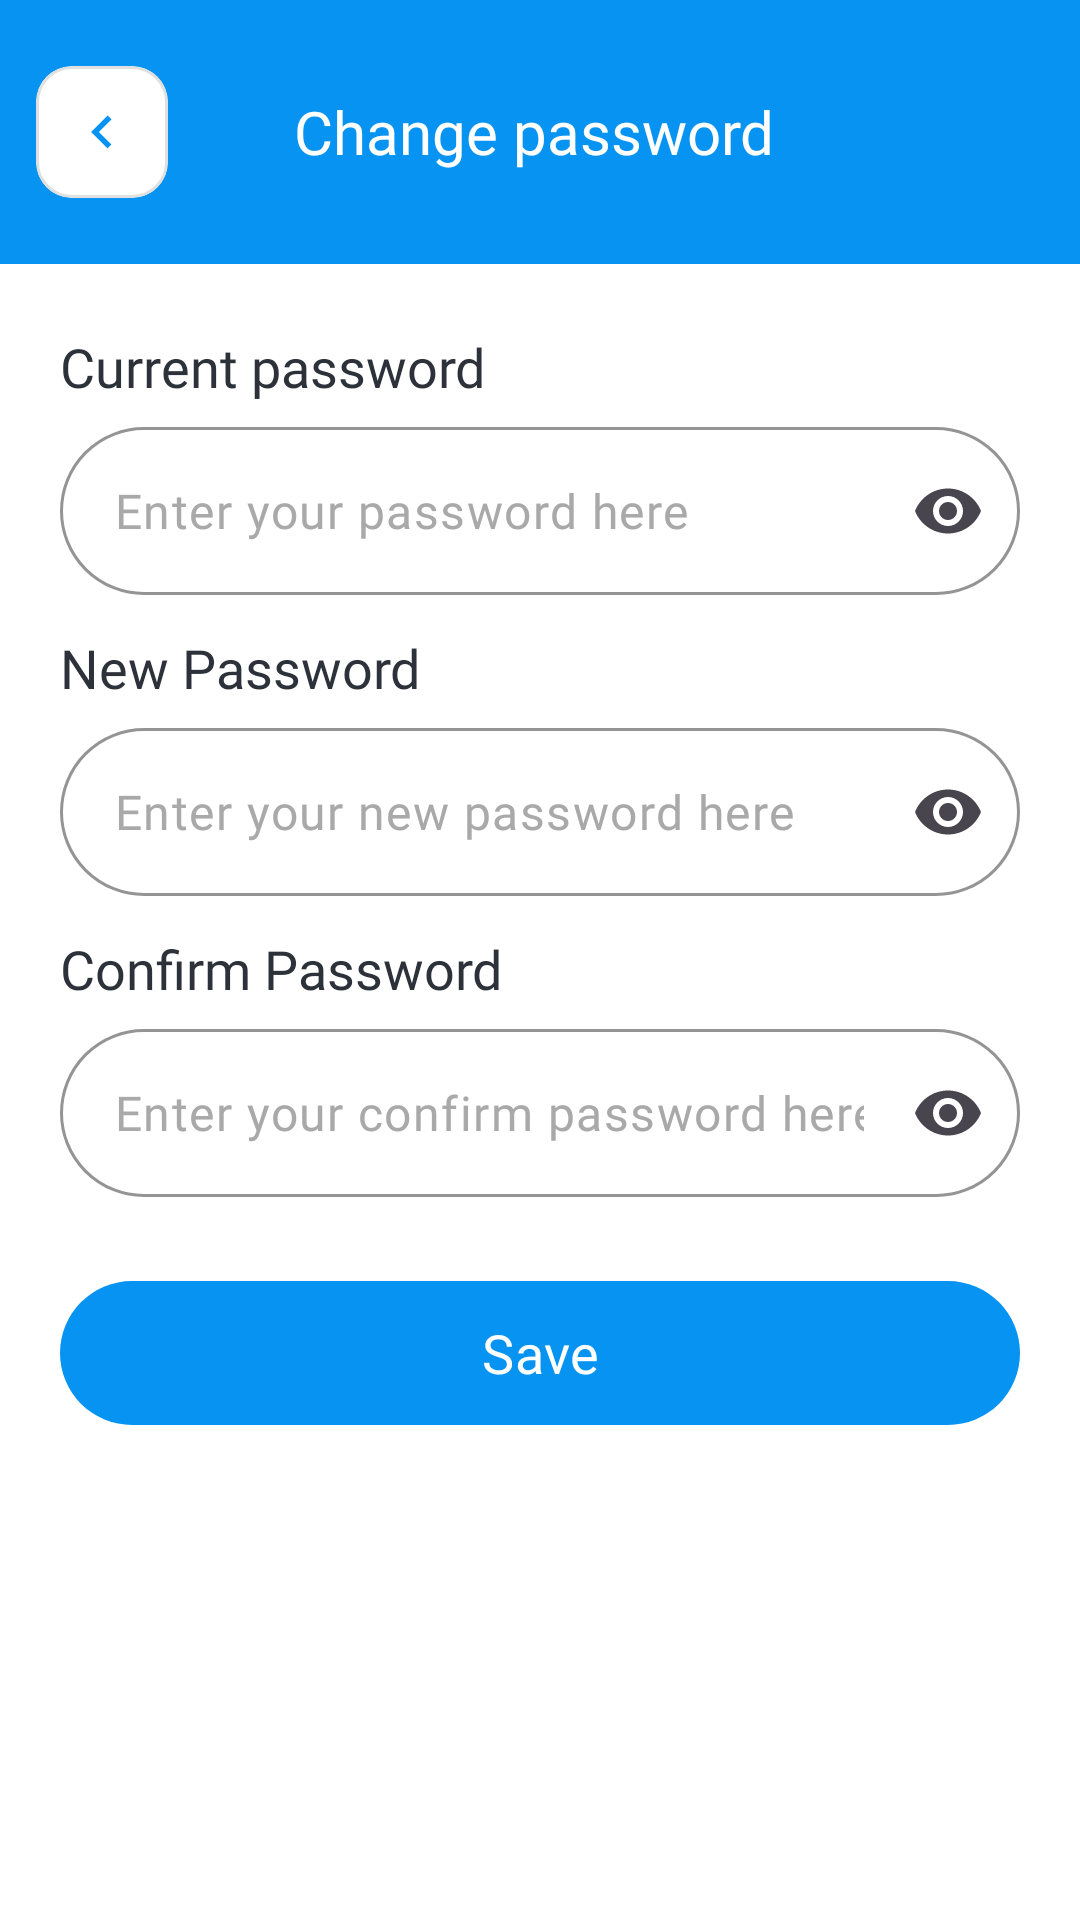

Locate icon controls on the screen. Image size 1080x1920, boxes as detection(x1, y1, x2, y2).
Back: detection(91, 115, 112, 149)
